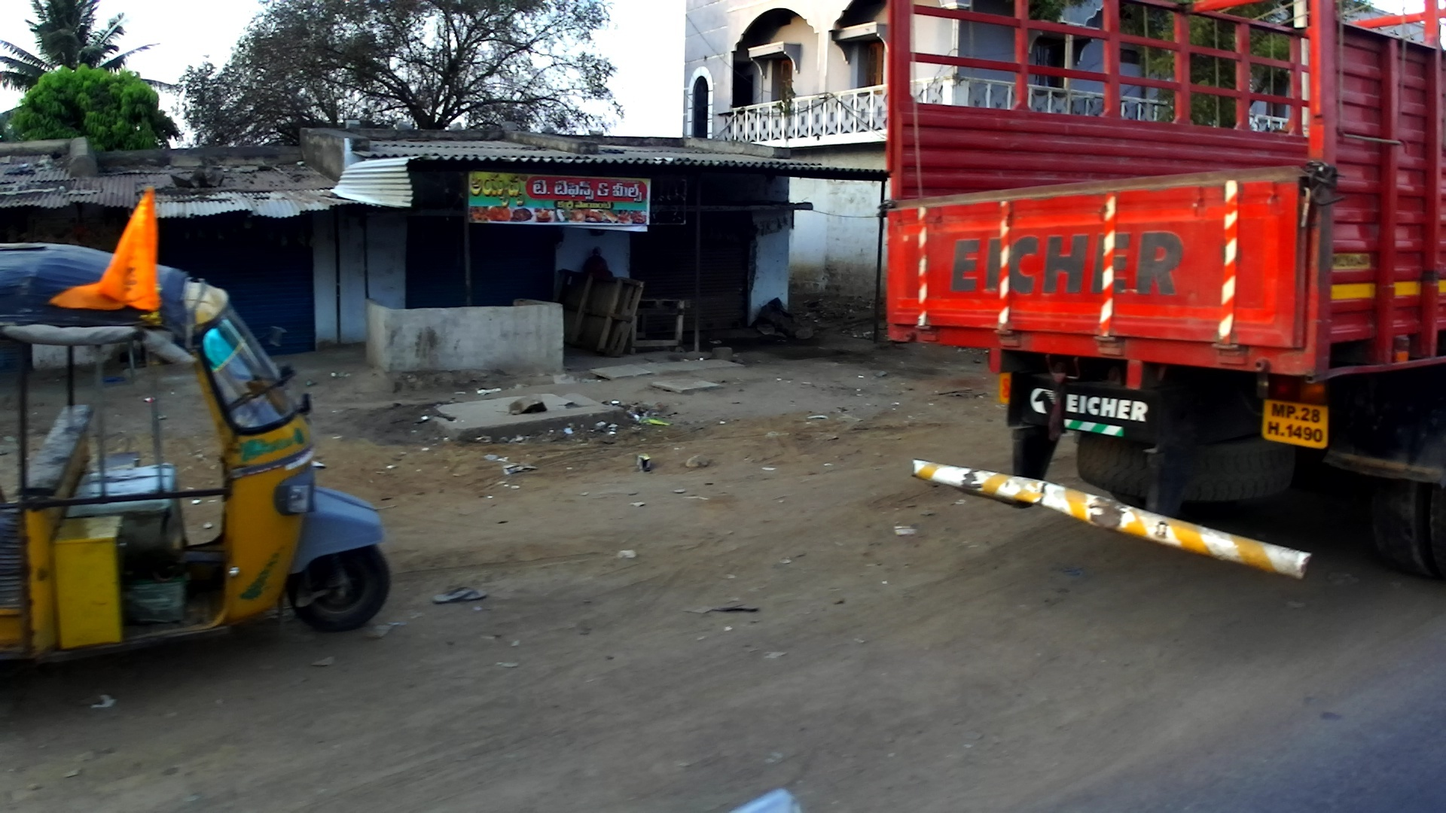autorickshaw: (1, 183, 392, 667)
truck: (877, 1, 1446, 580)
